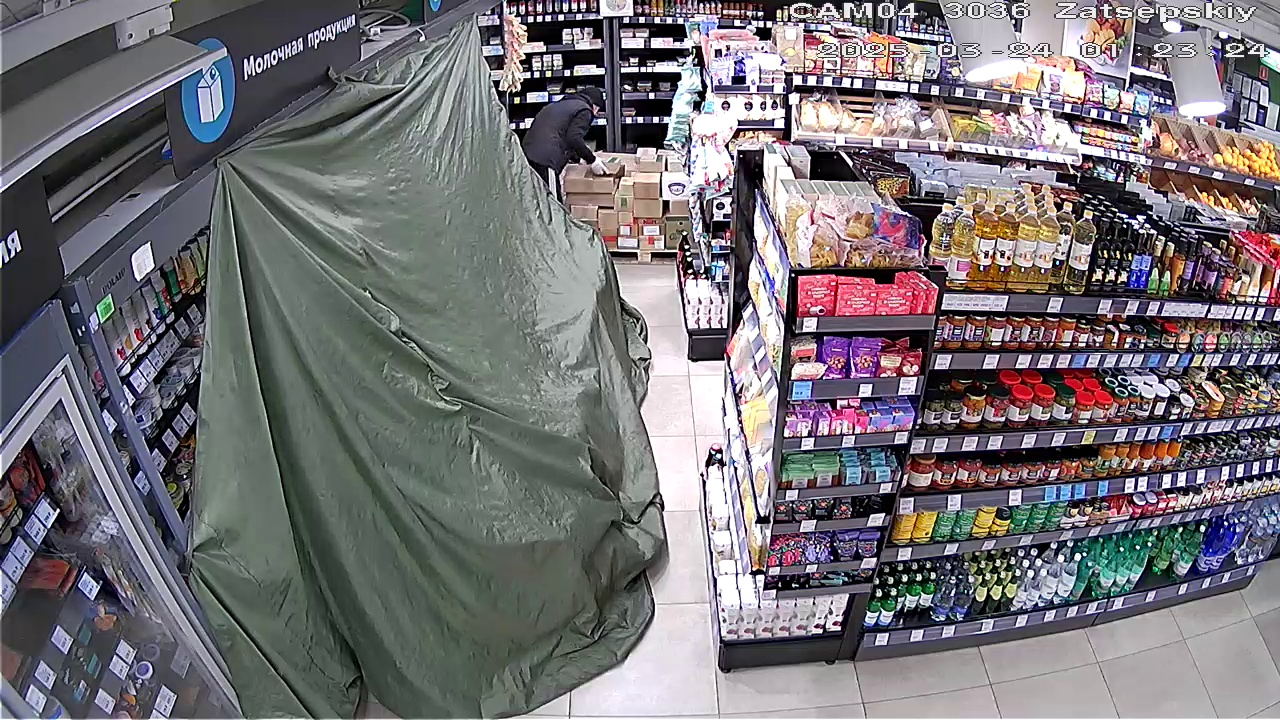Human: (504, 74, 606, 164)
dome: (185, 6, 664, 712)
pallet: (575, 155, 682, 259)
